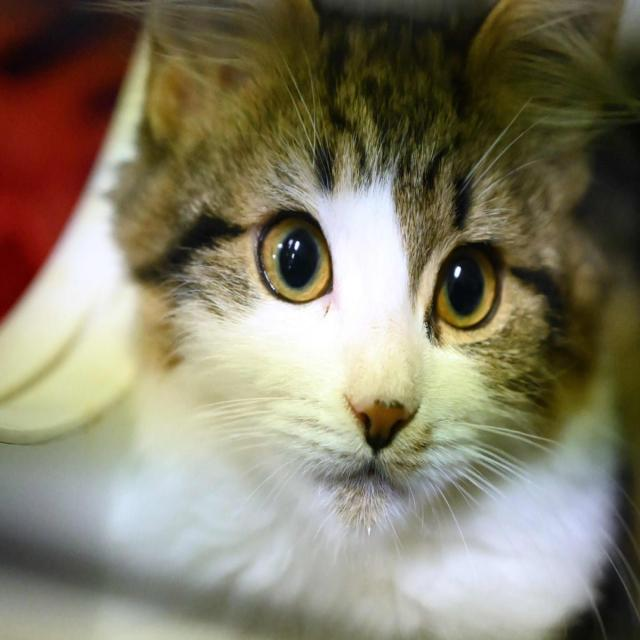cat: (140, 60, 587, 542)
